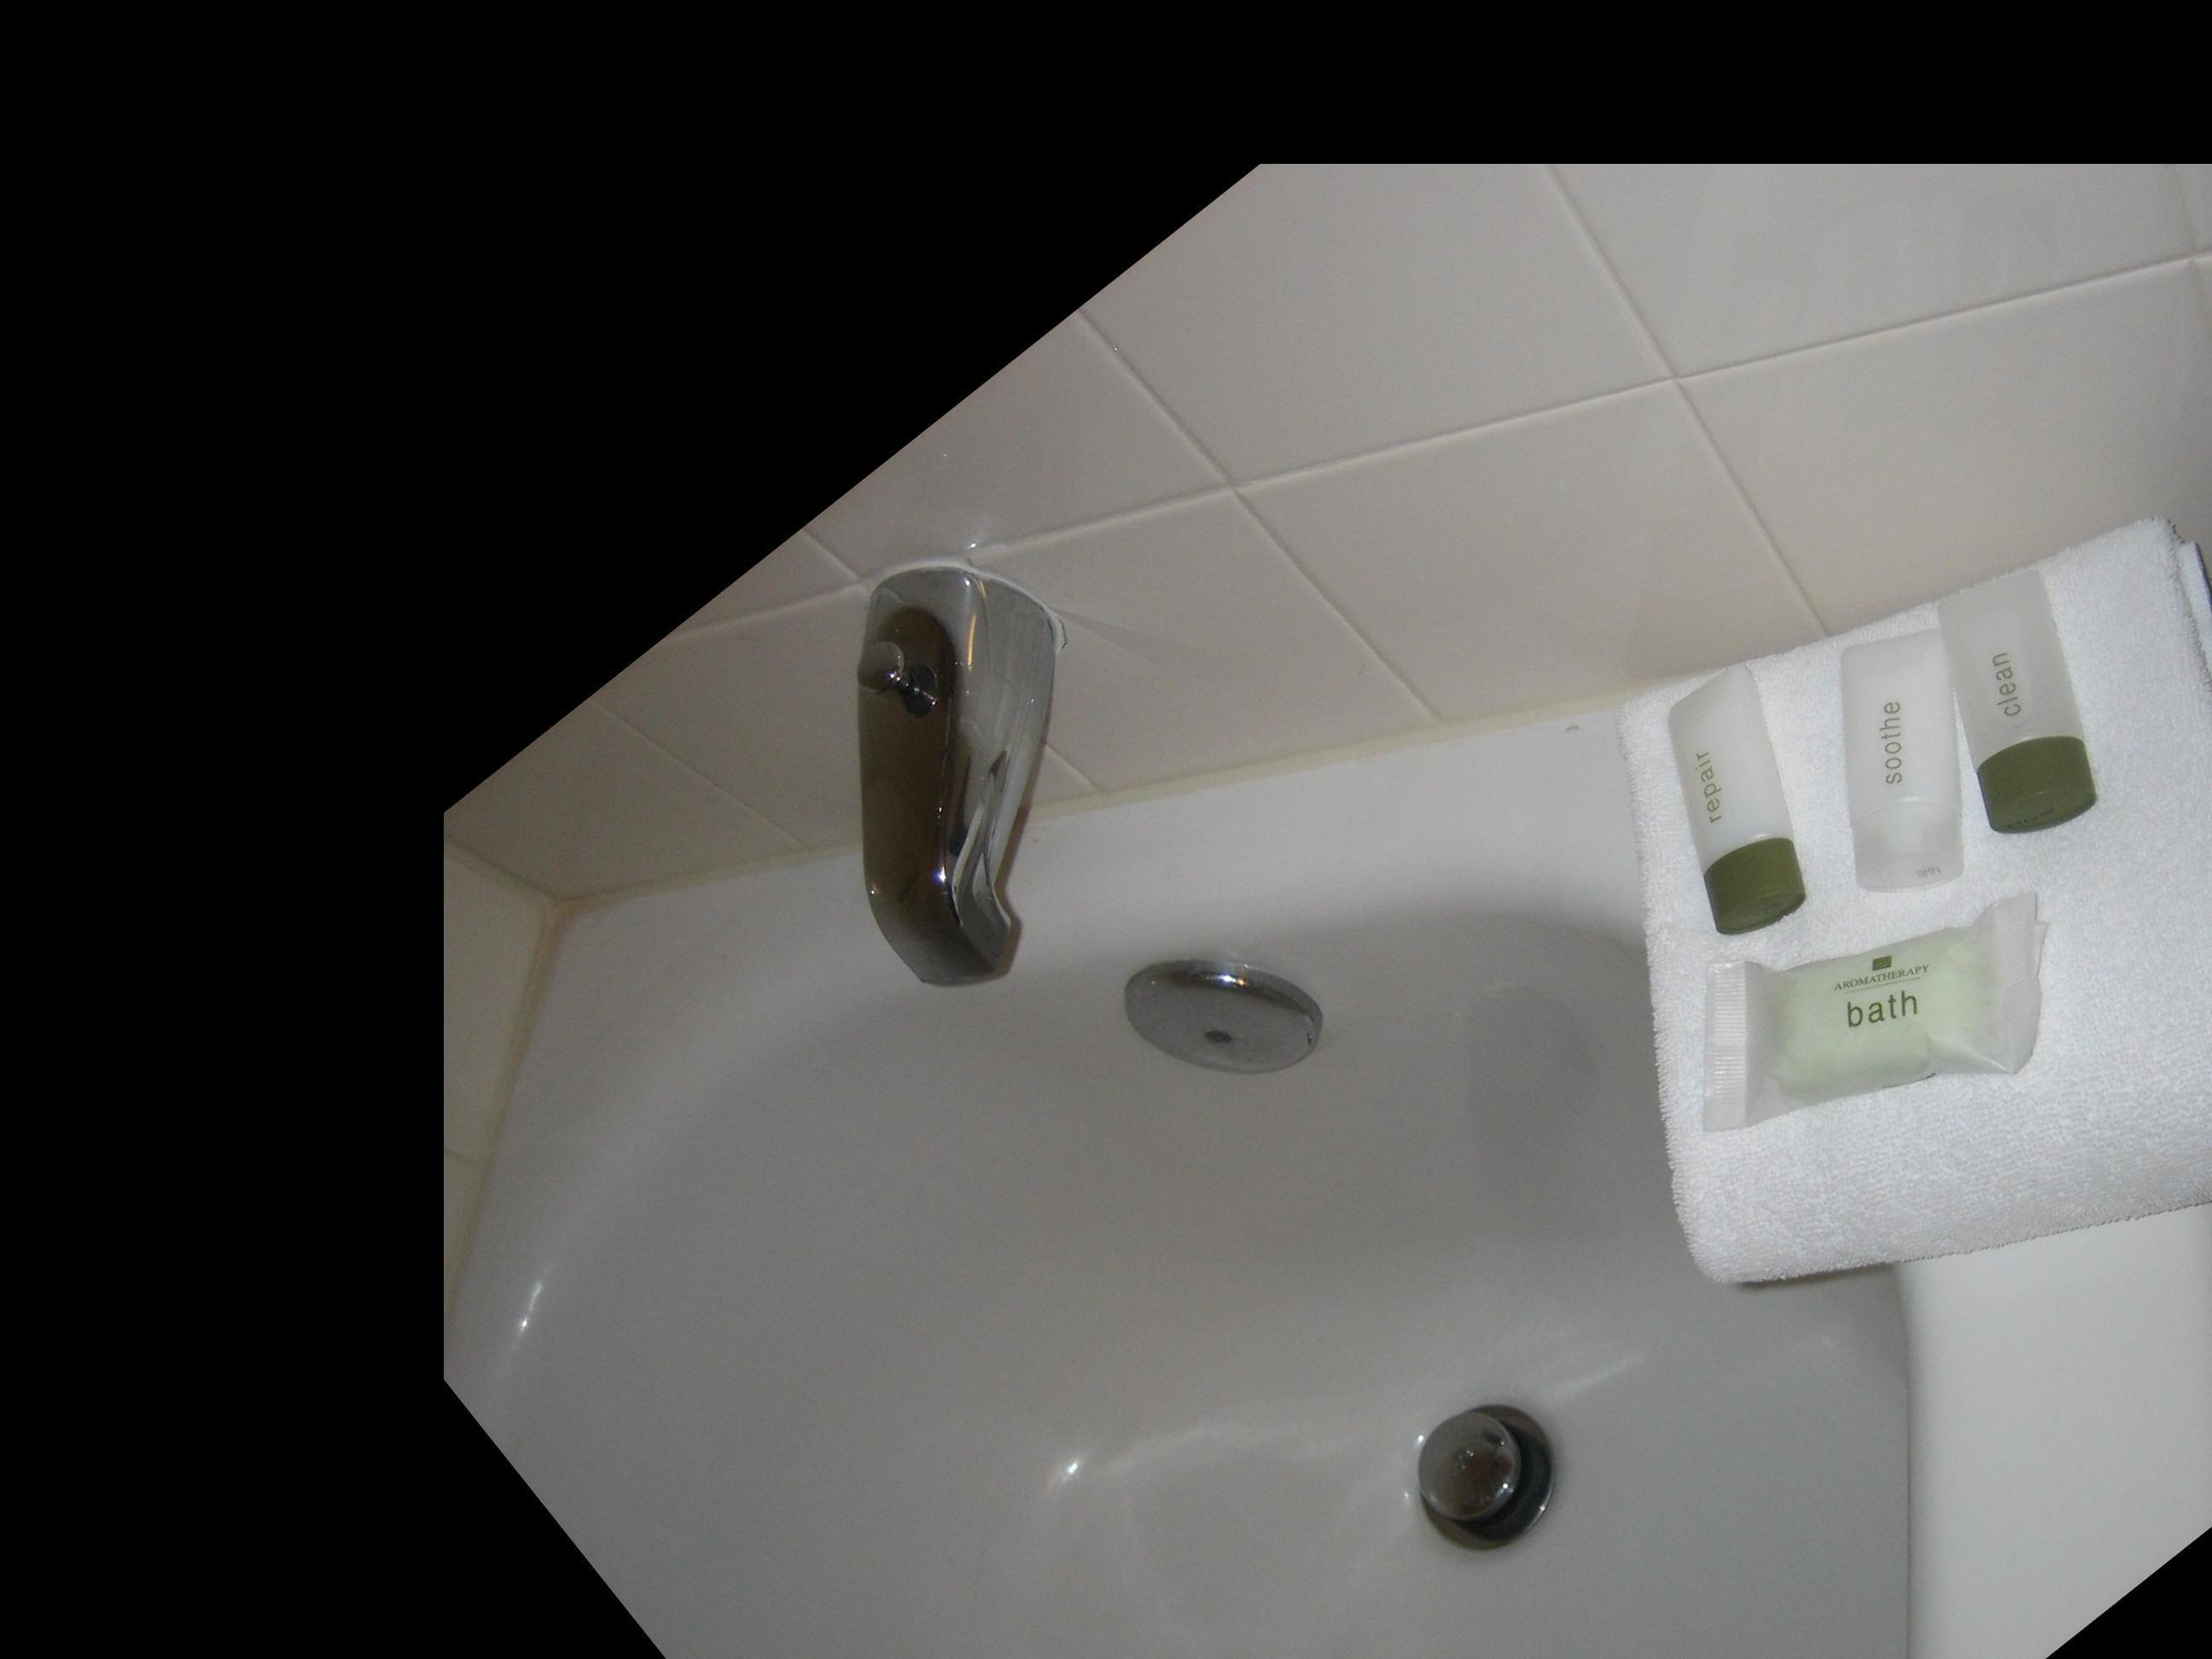Ducha: (185, 458, 1939, 1659)
Sanitario: (1707, 1124, 2212, 1659)
